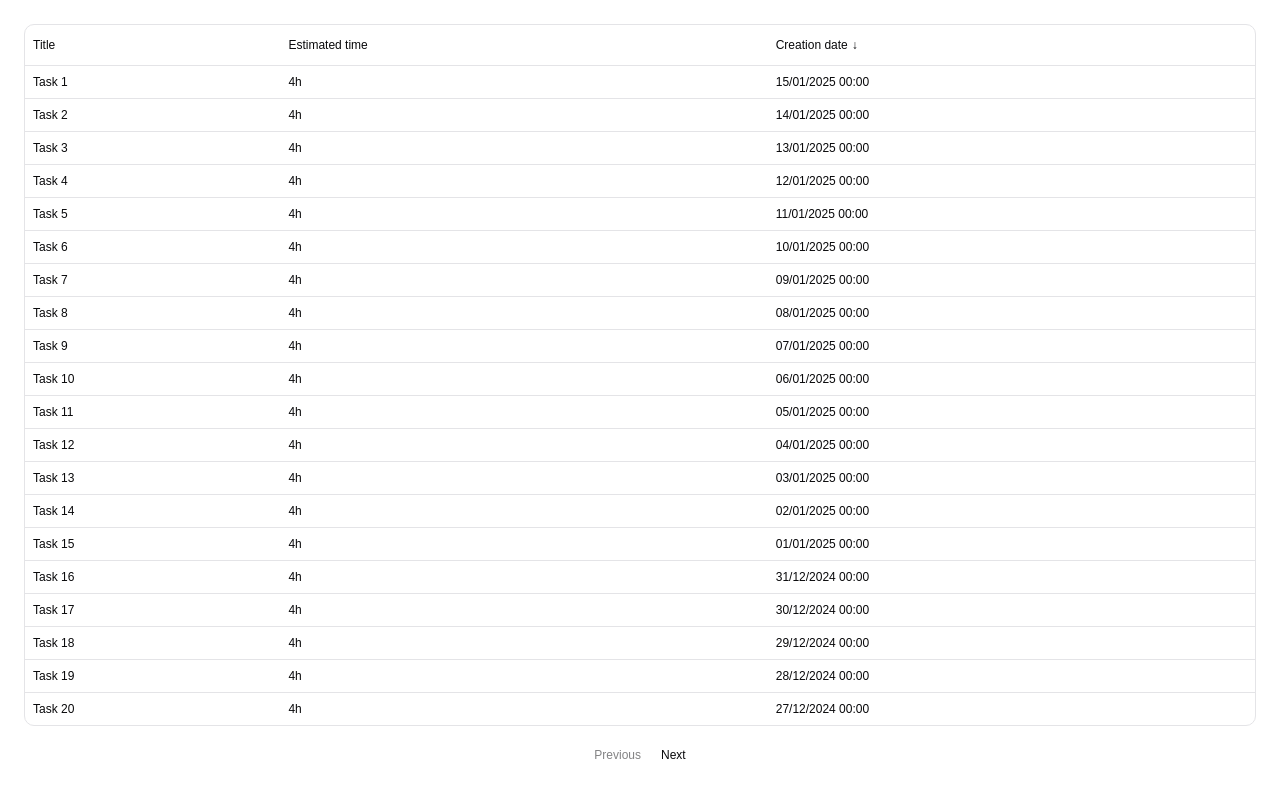
it: TasksPage — sorting › clicking Creation date header sorts by date
Expected: the text "Task 1" is shown, [25,65,280,98]
Click the column heading "Creation date ↓" at (812, 45), box [768,25,1255,65]
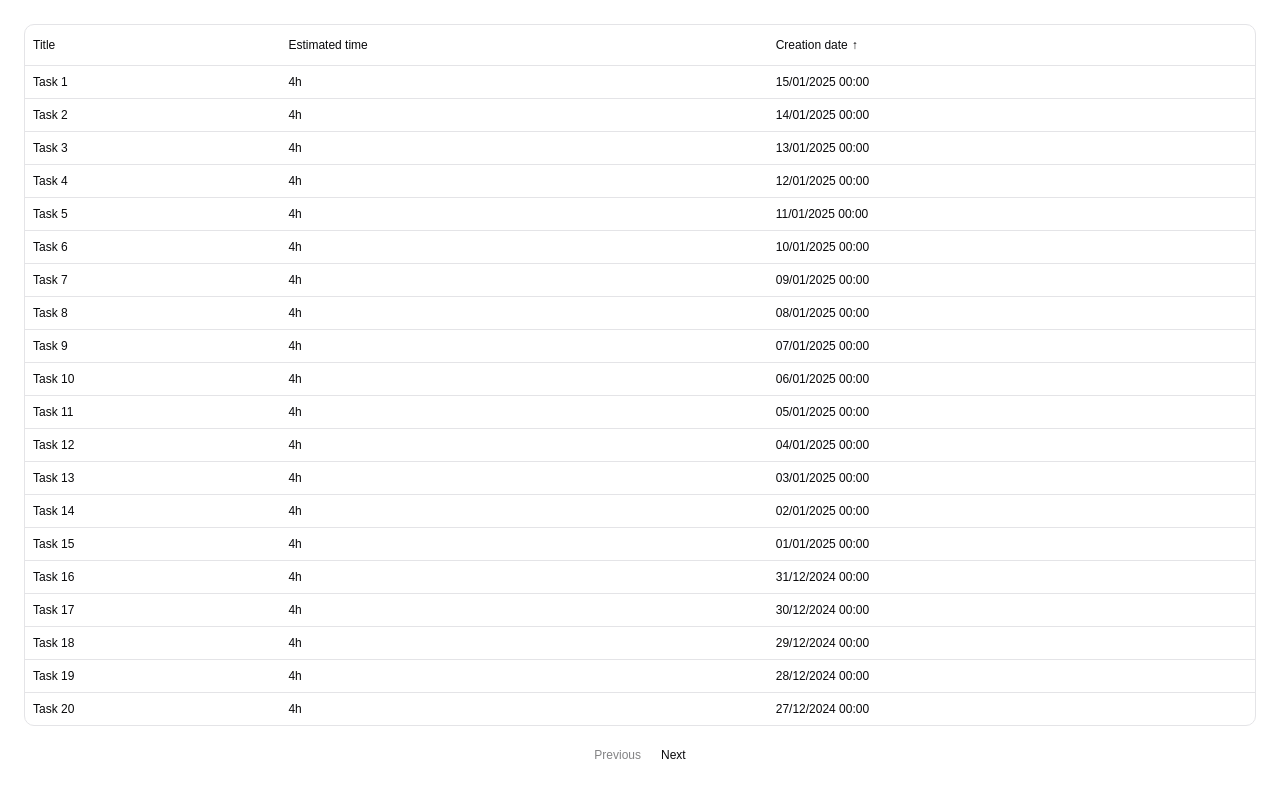
Result: the column heading "Creation date ↑" is shown at [768,25,1255,65]
